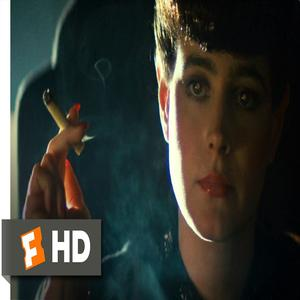cigarette: (41, 94, 87, 158)
